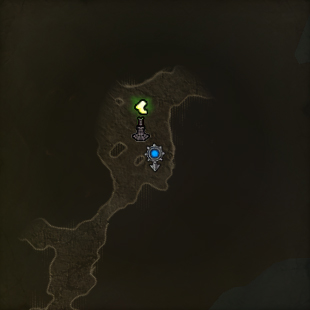SpeedPylon: (131, 99, 151, 142)
